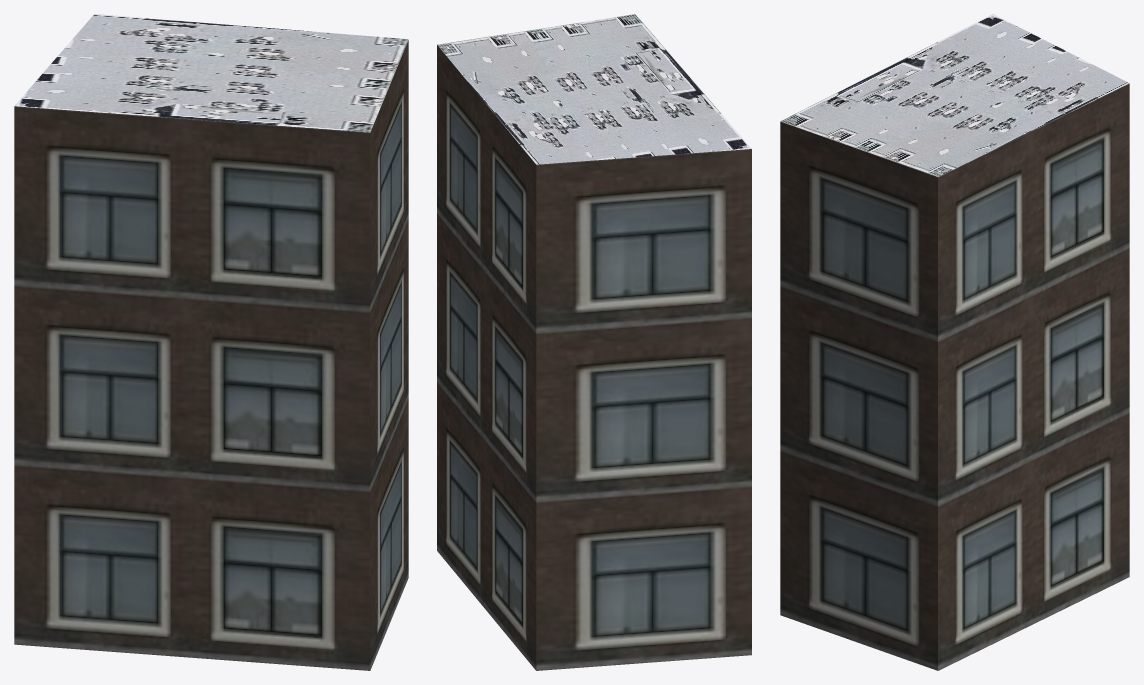
File: ResTex__4208.fbx
The picture shows the model from 3 angles, left to right: view 1: azimuth 30°, elevation 25°; view 2: azimuth 150°, elevation 25°; view 3: azimuth 270°, elevation 25°; orthographic projection. The views are drawn at different scales.
Parts seen in each view (by area): view 1: CityEngineMaterial_16_m, CityEngineMaterial_15_m; view 2: CityEngineMaterial_16_m, CityEngineMaterial_15_m; view 3: CityEngineMaterial_16_m, CityEngineMaterial_15_m.
Part boxes in pixels (x1,y1,x2,y2): CityEngineMaterial_16_m: (14, 40, 408, 670); CityEngineMaterial_15_m: (14, 14, 408, 132); CityEngineMaterial_16_m: (437, 45, 751, 670); CityEngineMaterial_15_m: (437, 14, 751, 164); CityEngineMaterial_16_m: (780, 83, 1129, 670); CityEngineMaterial_15_m: (780, 14, 1129, 176).
Size of the model in its own units: 6.38 by 9 by 5.77.
2 materials, 2 textured.
